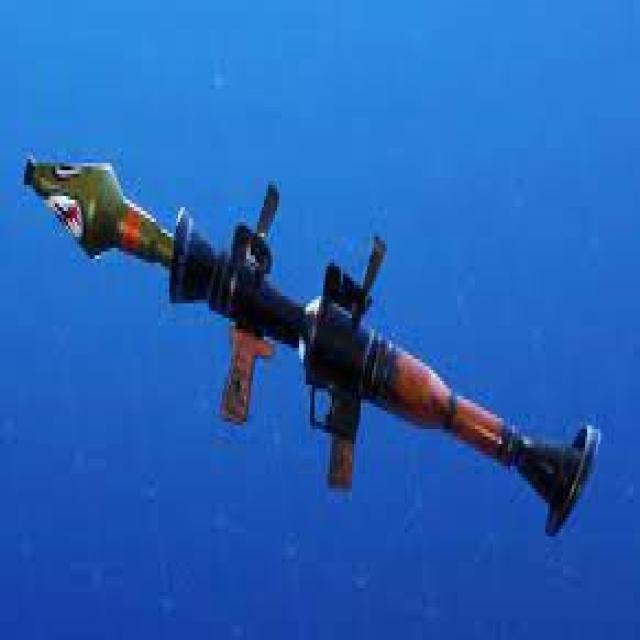bazooka: (5, 52, 629, 583)
